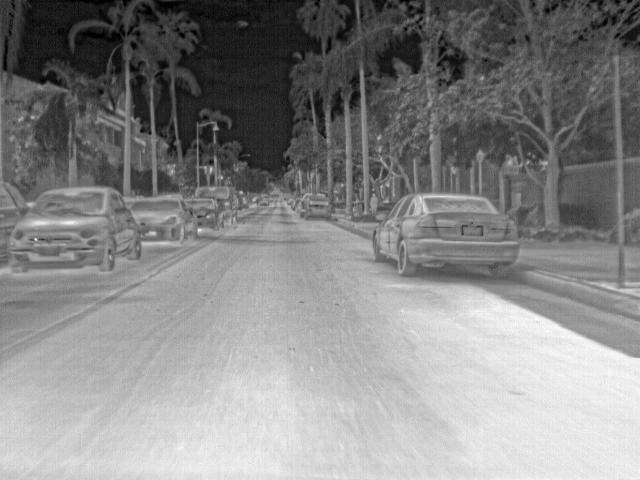car: (371, 190, 520, 280), (8, 186, 139, 274), (130, 195, 196, 245), (2, 181, 30, 270), (193, 185, 239, 227), (182, 196, 226, 231), (303, 196, 333, 220), (297, 190, 325, 215), (287, 194, 300, 208), (257, 196, 270, 205), (242, 195, 248, 208)
person: (368, 191, 380, 214), (222, 172, 232, 184)
